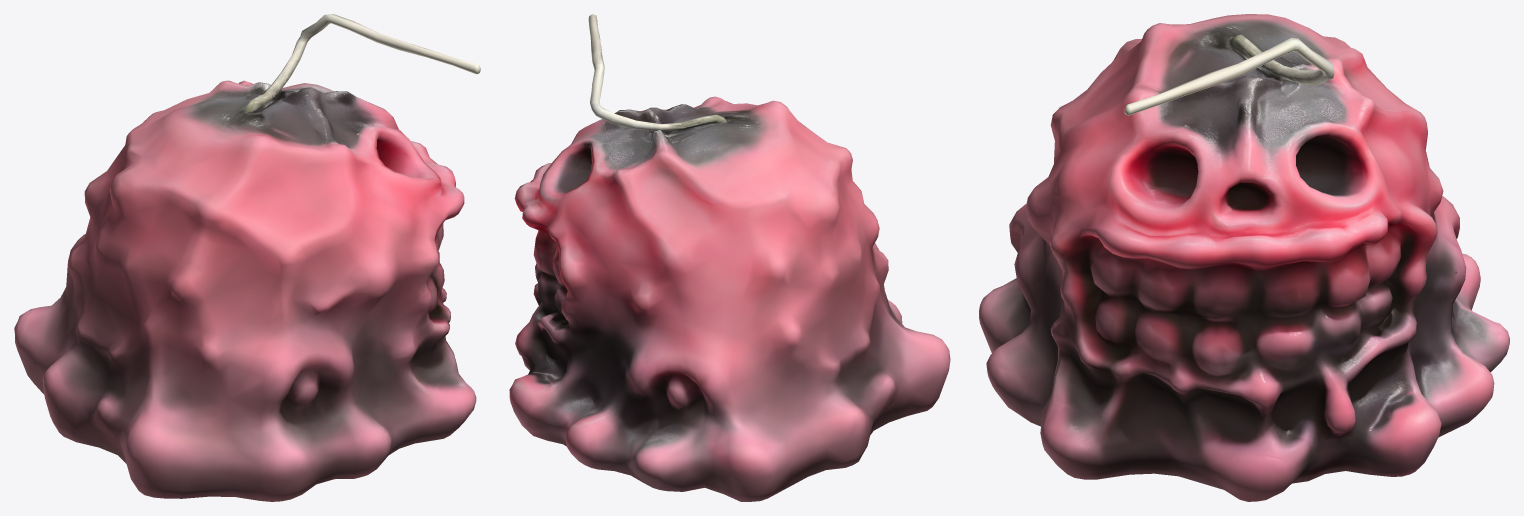
The model's file is 粉色骷髅蜡烛3d模型.glb.
The picture shows the model from 3 angles, left to right: view 1: azimuth 30°, elevation 25°; view 2: azimuth 150°, elevation 25°; view 3: azimuth 270°, elevation 25°; orthographic projection. The views are drawn at different scales.
Parts seen in each view (by area): view 1: tripo_node_f177ff37-04e0-4e37-b25d-91bc2848a651; view 2: tripo_node_f177ff37-04e0-4e37-b25d-91bc2848a651; view 3: tripo_node_f177ff37-04e0-4e37-b25d-91bc2848a651.
Part boxes in pixels (bbox=[...]): tripo_node_f177ff37-04e0-4e37-b25d-91bc2848a651: bbox=[14, 14, 480, 501]; tripo_node_f177ff37-04e0-4e37-b25d-91bc2848a651: bbox=[509, 14, 950, 501]; tripo_node_f177ff37-04e0-4e37-b25d-91bc2848a651: bbox=[979, 14, 1509, 501].
Bounding box in the file's own units: 0.9629 × 0.877 × 0.998.
Materials: 1 (1 with a texture image).
